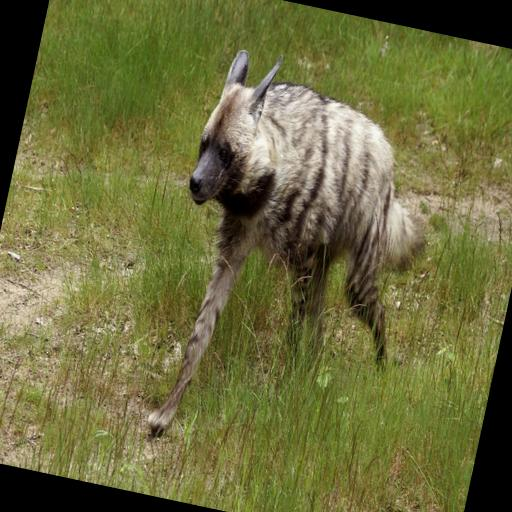hyenas: (50, 32, 442, 469)
